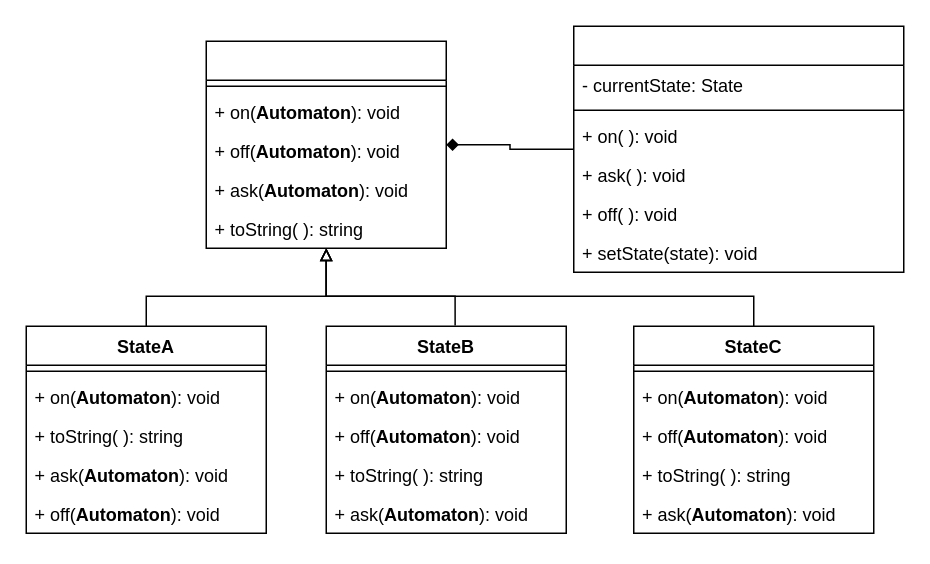
This 930x564 diagram has some shape labels left out. Each missing label, with the box of its shape:
Automaton: (572, 25, 904, 272)
State: (205, 40, 446, 248)
